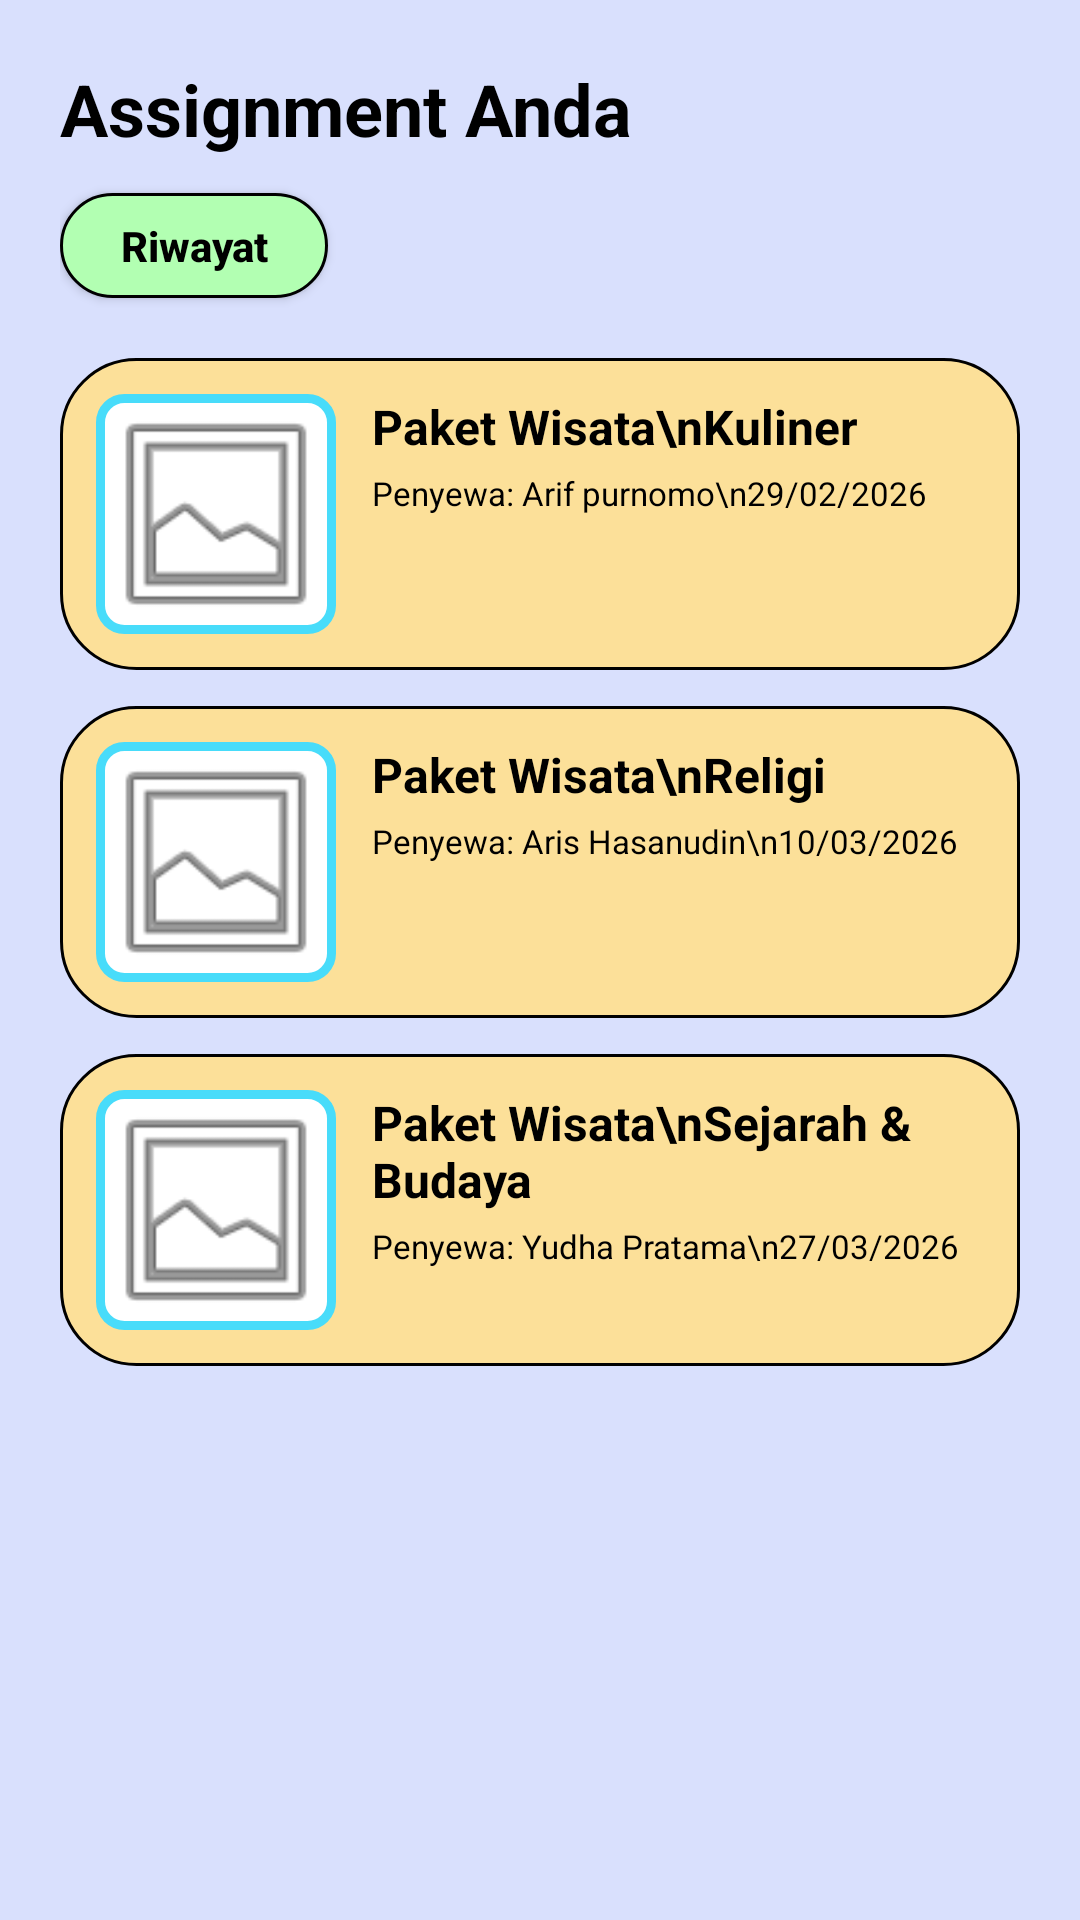

Icons on this 1080 x 1920 Android screen, each with the point to tap as (x,y):
gallery: (216,514), (216,862), (216,1210)
